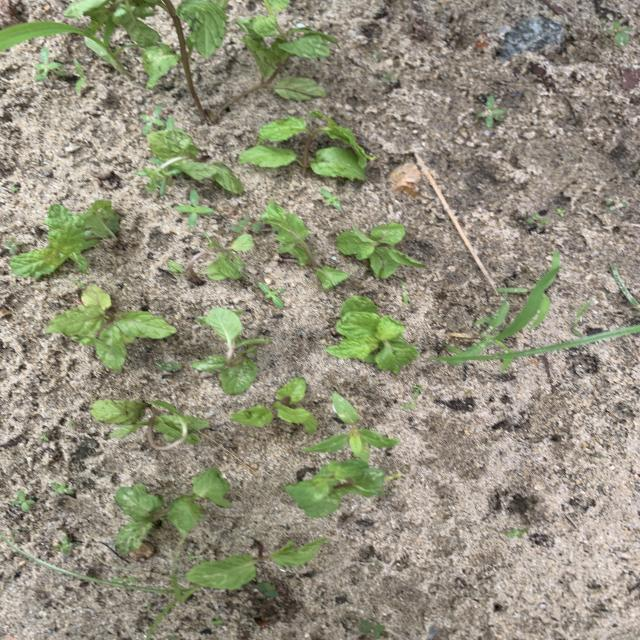crop: (64, 0, 336, 124), (47, 285, 174, 369), (116, 468, 230, 553), (242, 113, 375, 179), (12, 200, 119, 277), (265, 200, 347, 288), (326, 296, 418, 372), (187, 539, 326, 589), (193, 309, 270, 393), (148, 126, 241, 192), (286, 460, 387, 516), (92, 401, 208, 449), (230, 377, 318, 434), (337, 223, 426, 278), (169, 233, 253, 282)
weed: (2, 539, 198, 640), (426, 251, 560, 364), (1, 21, 130, 75), (303, 393, 399, 463), (86, 37, 131, 76), (177, 191, 213, 225), (35, 48, 64, 80), (477, 95, 504, 127), (605, 21, 631, 45), (260, 282, 284, 306), (142, 107, 164, 131), (73, 59, 87, 94), (232, 217, 262, 233), (13, 491, 35, 511), (360, 621, 384, 639), (53, 536, 78, 553), (402, 390, 420, 410), (322, 189, 341, 207), (527, 213, 547, 227), (258, 582, 277, 596), (51, 482, 72, 494), (157, 362, 180, 371), (400, 282, 409, 304), (6, 239, 22, 251), (507, 528, 527, 537), (382, 72, 396, 82), (556, 208, 566, 216), (213, 619, 222, 625), (40, 434, 48, 439)
